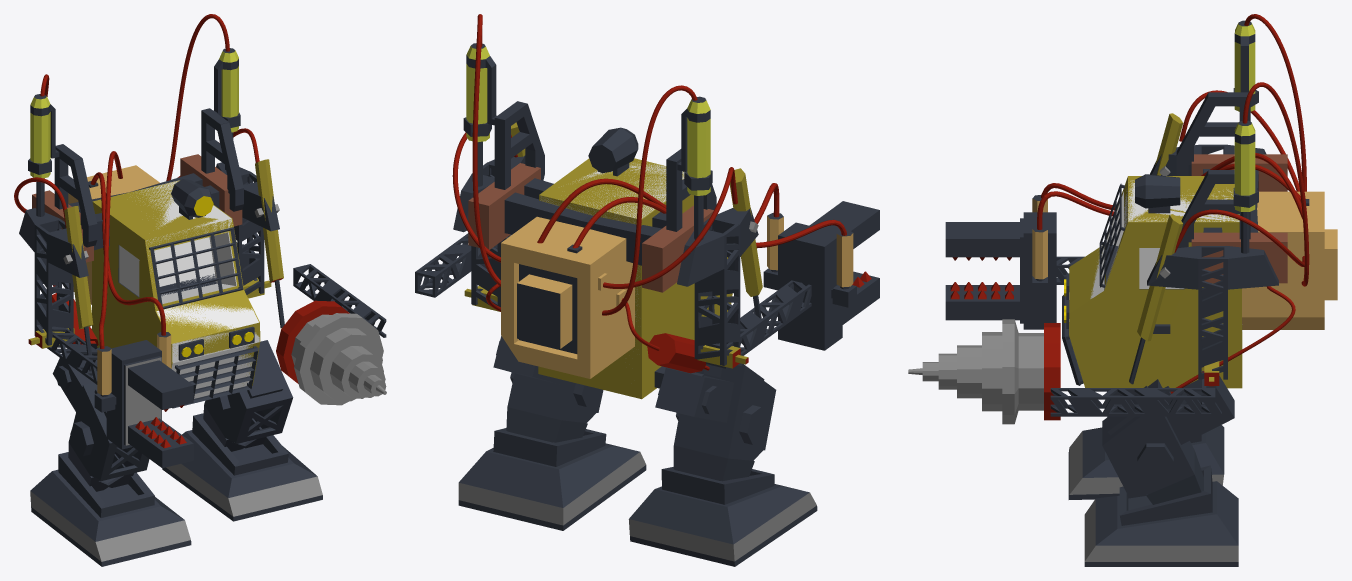
File: Krot3.fbx
3 renders of one model, left to right at view 1: azimuth 30°, elevation 25°; view 2: azimuth 150°, elevation 25°; view 3: azimuth 270°, elevation 25°, orthographic. The views are drawn at different scales.
Visible parts, largest first — view 1: Cube, Cube.003, Доп кабина, Cube.012, Cylinder.003, Plane.008, Cube.011, Cube.002, Cube.006, Plane.004, Cube.008, Cube.007 (+10 smaller); view 2: Cube, Cube.012, Cube.003, Cube.002, Plane.008, Cube.006, Cube.011, Cube.001, Plane.010, Cube.009, Plane.004, Plane.002 (+12 smaller); view 3: Cube, Cube.012, Cylinder.003, Plane.004, Cube.011, Plane.002, Cube.003, Cube.006, Cube.008, Cube.007, Доп кабина, Cube.010 (+11 smaller).
Part boxes in pixels (x1=…): Cube: x1=28, y1=48, x2=260, y2=408; Cube.003: x1=30, y1=452, x2=191, y2=566; Доп кабина: x1=119, y1=180, x2=259, y2=398; Cube.012: x1=162, y1=413, x2=322, y2=521; Cylinder.003: x1=276, y1=300, x2=386, y2=405; Plane.008: x1=19, y1=208, x2=88, y2=345; Cube.011: x1=203, y1=340, x2=293, y2=451; Cube.002: x1=68, y1=382, x2=149, y2=491; Cube.006: x1=106, y1=340, x2=161, y2=449; Plane.004: x1=216, y1=162, x2=279, y2=294; Cube.008: x1=128, y1=360, x2=193, y2=411; Cube.007: x1=128, y1=417, x2=193, y2=468; Cube: x1=463, y1=43, x2=732, y2=399; Cube.012: x1=458, y1=428, x2=646, y2=530; Cube.003: x1=628, y1=467, x2=817, y2=566; Cube.002: x1=673, y1=363, x2=776, y2=481; Plane.008: x1=677, y1=208, x2=758, y2=365; Cube.006: x1=778, y1=222, x2=842, y2=350; Cube.011: x1=506, y1=372, x2=603, y2=442; Cube.001: x1=654, y1=366, x2=733, y2=422; Plane.010: x1=706, y1=280, x2=811, y2=368; Cube.009: x1=763, y1=213, x2=856, y2=307; Plane.004: x1=453, y1=155, x2=525, y2=307; Plane.002: x1=415, y1=233, x2=511, y2=297; Cube: x1=1062, y1=20, x2=1337, y2=388; Cube.012: x1=1084, y1=465, x2=1238, y2=566; Cylinder.003: x1=908, y1=319, x2=1060, y2=424; Plane.004: x1=1147, y1=246, x2=1278, y2=379; Cube.011: x1=1102, y1=379, x2=1203, y2=504; Plane.002: x1=1050, y1=388, x2=1215, y2=416; Cube.003: x1=1068, y1=425, x2=1224, y2=499; Cube.006: x1=1020, y1=212, x2=1056, y2=329; Cube.008: x1=945, y1=222, x2=1019, y2=260; Cube.007: x1=945, y1=282, x2=1019, y2=320; Доп кабина: x1=1069, y1=180, x2=1242, y2=331; Cube.010: x1=1166, y1=371, x2=1234, y2=444.
Size of the model in its own units: 1617 by 2315 by 1892.
